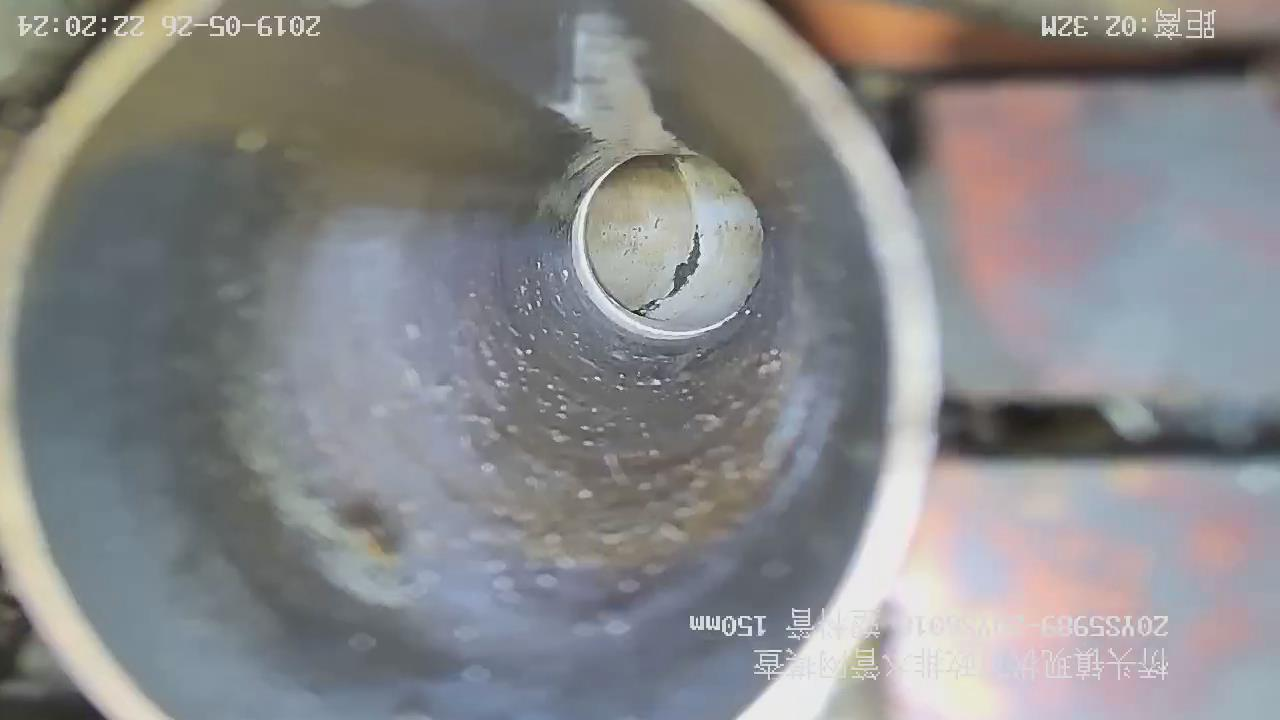CKTJ: (571, 164, 738, 340)
